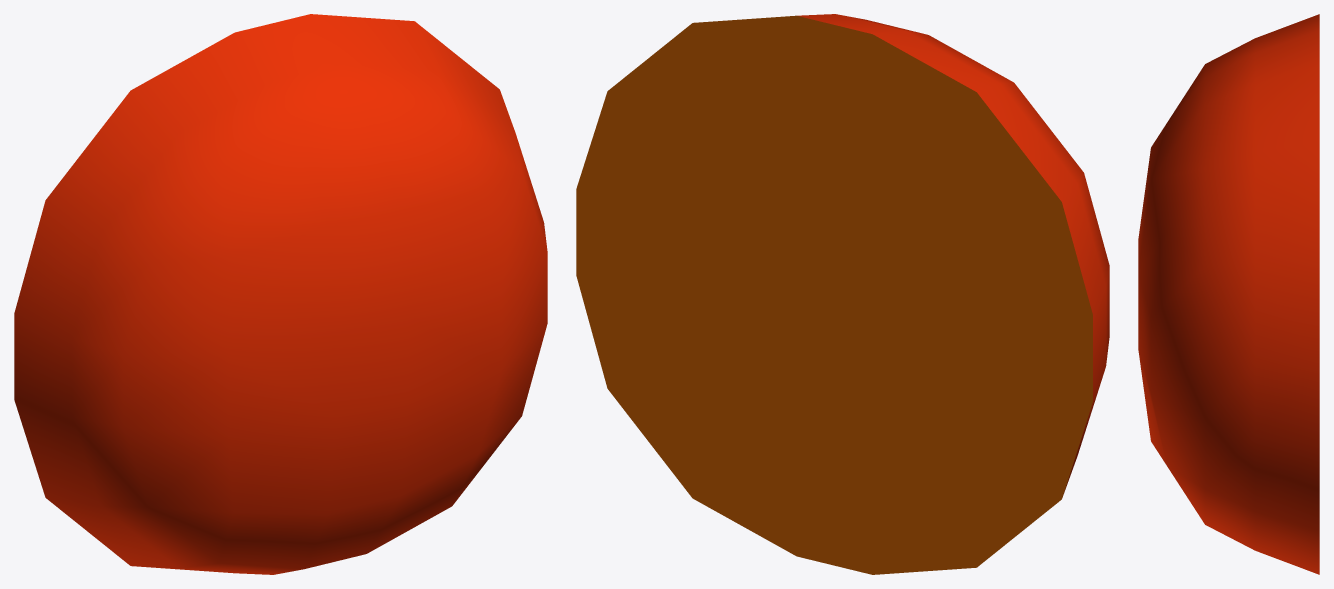
Rendered from mesh_tomato_stage05.fbx.
3 views of the same model, side by side, from view 1: azimuth 30°, elevation 25°; view 2: azimuth 150°, elevation 25°; view 3: azimuth 270°, elevation 25° (orthographic). The views are drawn at different scales.
Visible parts, largest first — view 1: mesh_tomato_stage05; view 2: mesh_tomato_stage05; view 3: mesh_tomato_stage05.
Boxes of the visible parts, left/top/right/bottom form: mesh_tomato_stage05: left=14, top=14, right=547, bottom=574; mesh_tomato_stage05: left=576, top=14, right=1109, bottom=574; mesh_tomato_stage05: left=1138, top=14, right=1319, bottom=574.
Size of the model in its own units: 0.1895 by 0.1895 by 0.0632.
